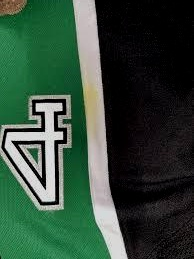mustard: (86, 80, 100, 138)
